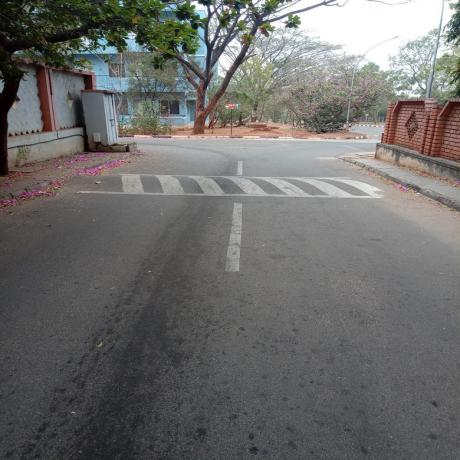Speed Bump: (42, 172, 391, 197)
